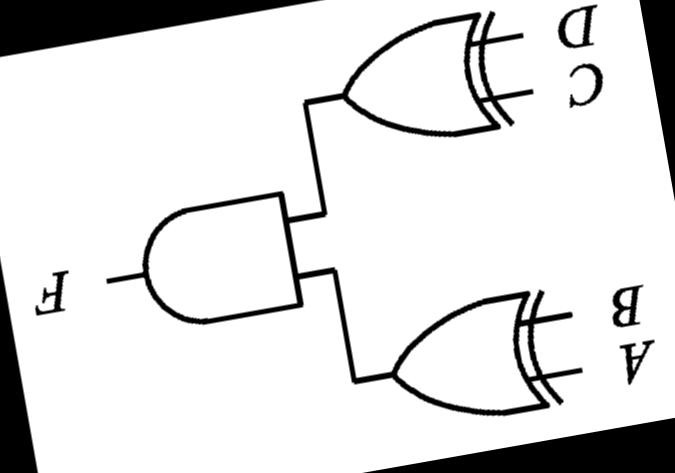and: (106, 165, 331, 352)
xor: (362, 275, 578, 450), (308, 0, 530, 170)
